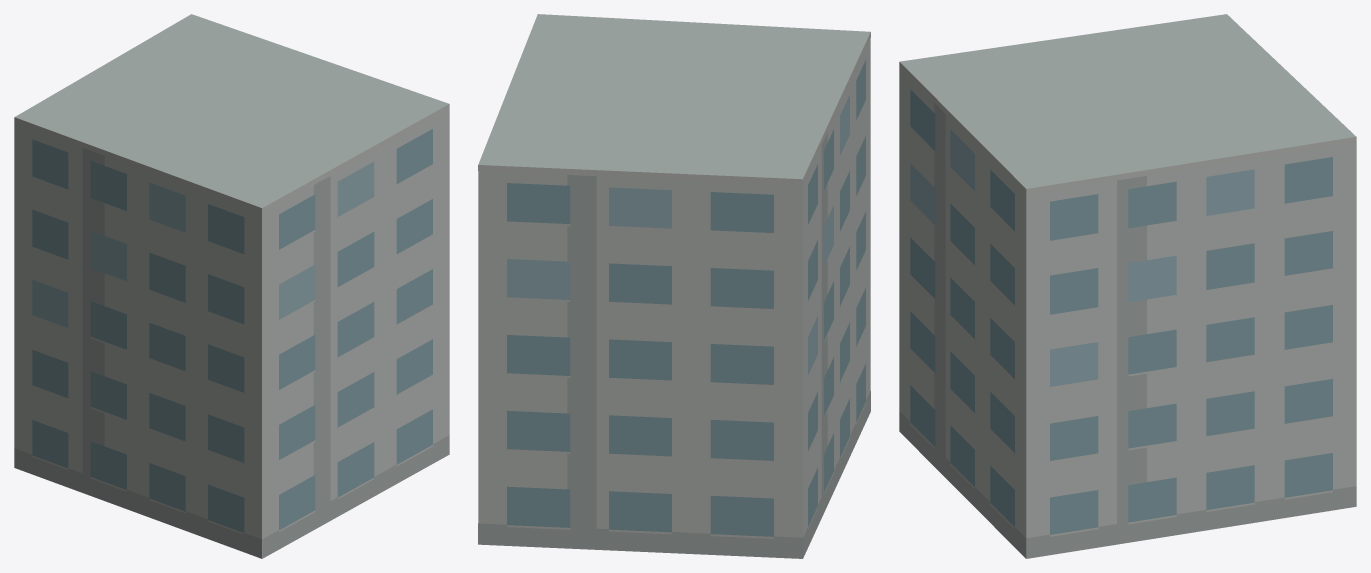
Rendered from survey-upis-32774443.glb.
3 views of the same model, side by side, from view 1: azimuth 30°, elevation 25°; view 2: azimuth 150°, elevation 25°; view 3: azimuth 270°, elevation 25° (orthographic). The views are drawn at different scales.
Parts seen in each view (by area): view 1: survey-upis-32774443.tmp; view 2: survey-upis-32774443.tmp; view 3: survey-upis-32774443.tmp.
Boxes of the visible parts, x1,y1,x2,y2 form: survey-upis-32774443.tmp: (14, 14, 449, 558); survey-upis-32774443.tmp: (478, 14, 870, 558); survey-upis-32774443.tmp: (899, 14, 1356, 558).
Bounding box in the file's own units: 15.48 × 15.25 × 17.09.
